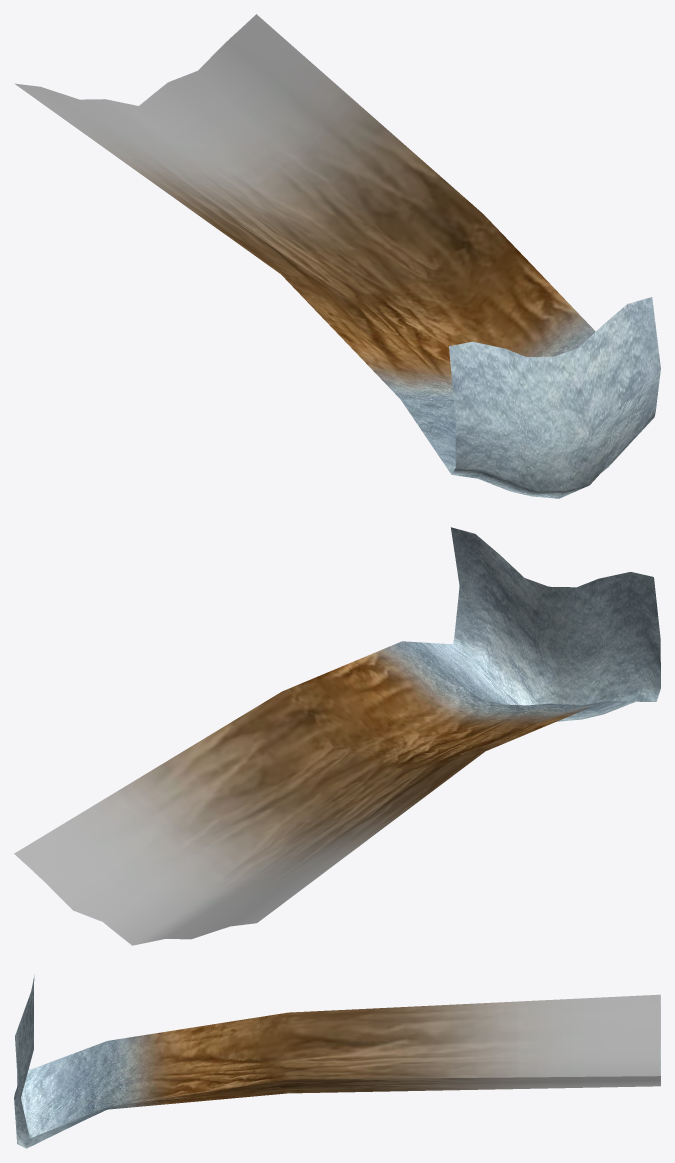
3 renders of one model, top to bottom at view 1: azimuth 30°, elevation 25°; view 2: azimuth 150°, elevation 25°; view 3: azimuth 270°, elevation 25°, orthographic. The views are drawn at different scales.
Visible parts, largest first — view 1: model_Object05; view 2: model_Object05; view 3: model_Object05.
Part boxes in pixels (bbox=[...]): model_Object05: bbox=[14, 14, 660, 498]; model_Object05: bbox=[14, 527, 660, 945]; model_Object05: bbox=[14, 975, 660, 1148].
Bounding box in the file's own units: 1.4 × 0.961 × 4.29.
Materials: 1 (1 with a texture image).
